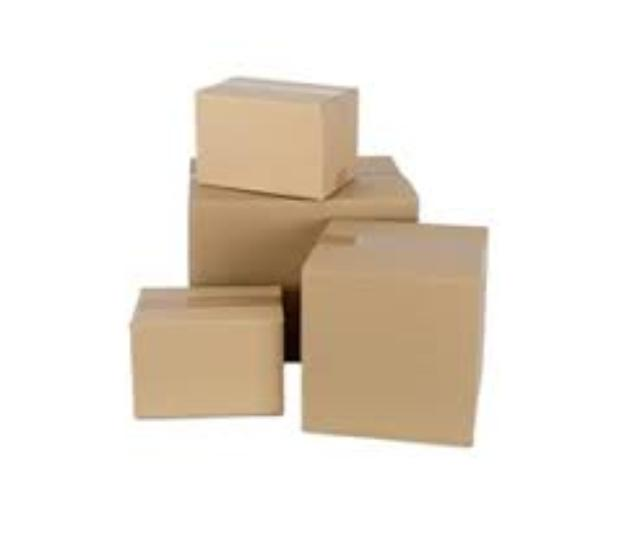cardboard paper: (127, 75, 481, 440), (299, 219, 481, 440), (127, 284, 278, 411), (195, 75, 351, 195)
